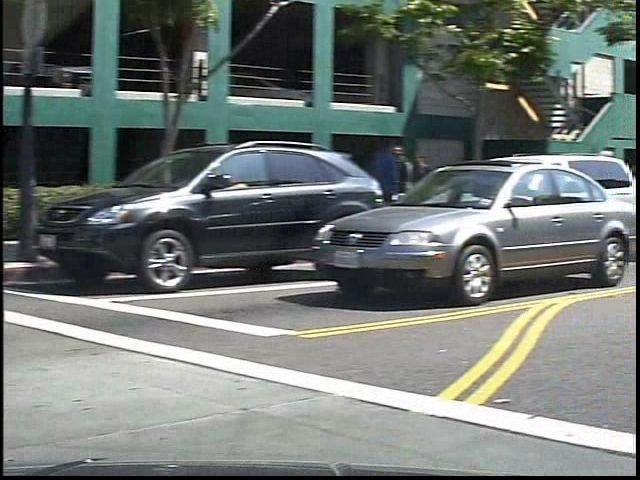person: (384, 132, 427, 240)
